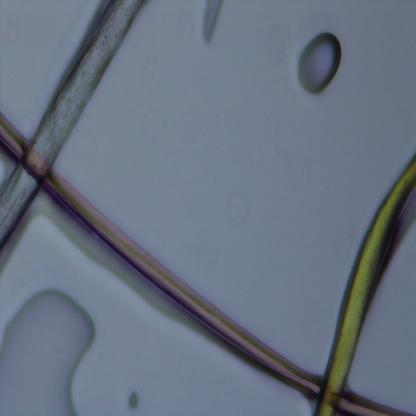Air bubble: (0, 285, 97, 416), (298, 30, 341, 98), (199, 0, 222, 46)
Background material: (126, 390, 141, 410)
Microfibre: (0, 112, 416, 414), (0, 0, 146, 249), (312, 156, 416, 416)
